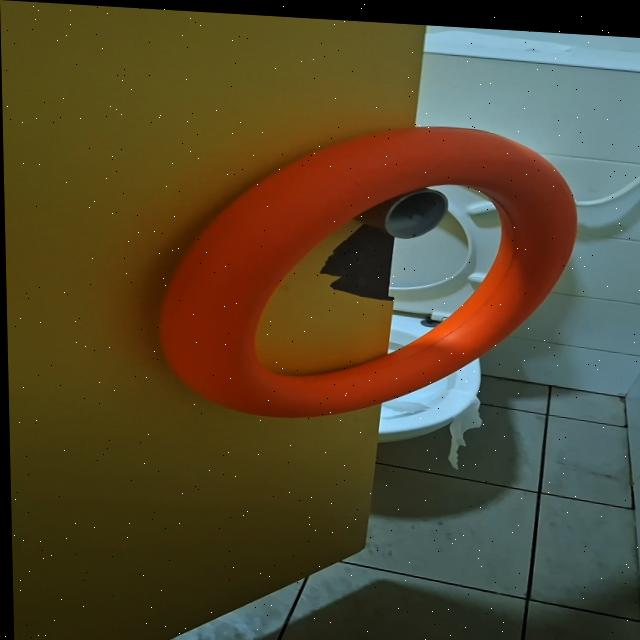note: (151, 105, 583, 433)
